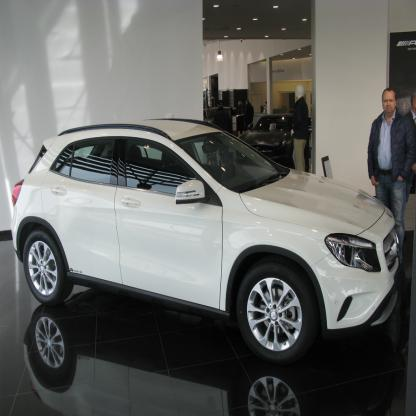Car: (11, 107, 400, 364), (238, 115, 292, 166)
